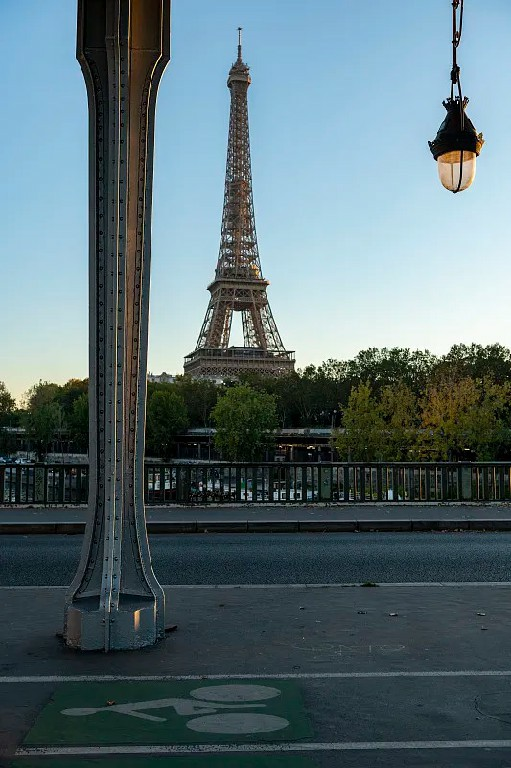Eiffel: (183, 29, 300, 384)
